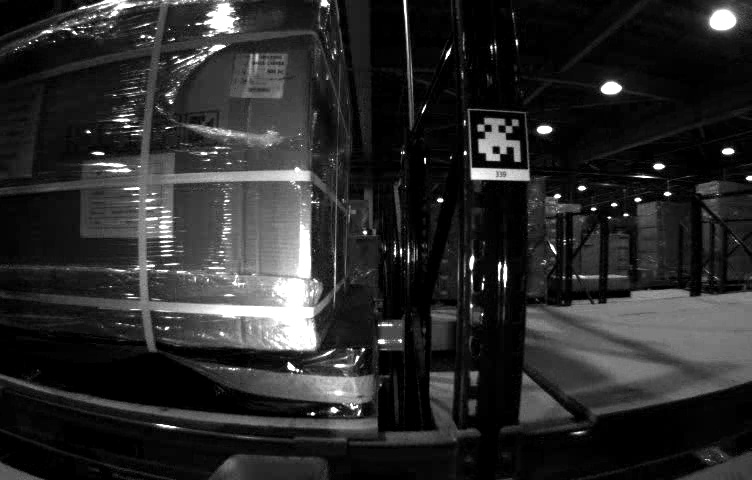True Barcode: (232, 53, 283, 97)
